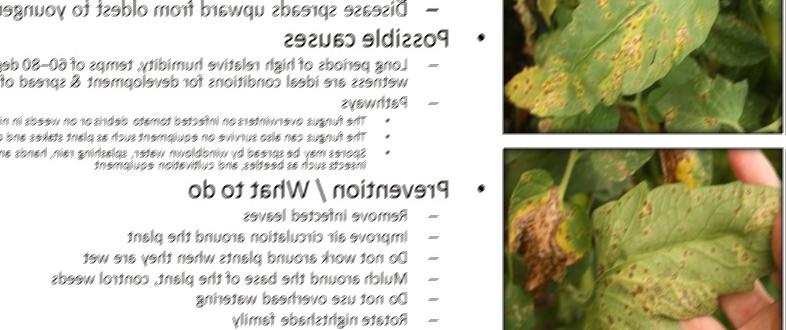Tomato Septoria leaf spot: (587, 178, 779, 330), (507, 0, 724, 117), (509, 157, 603, 299)
